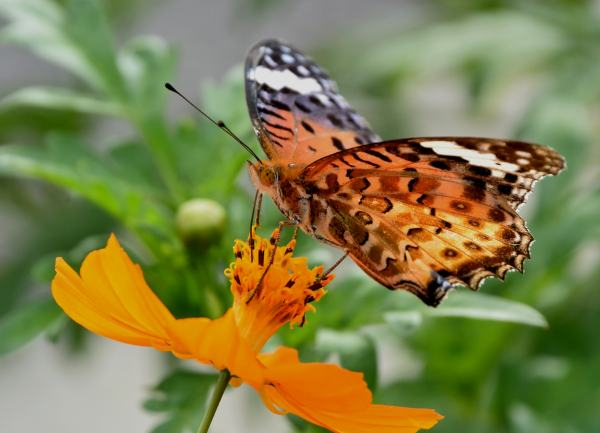Argyreus hyperbius: (157, 37, 576, 331)
butterfly: (159, 39, 578, 333)
